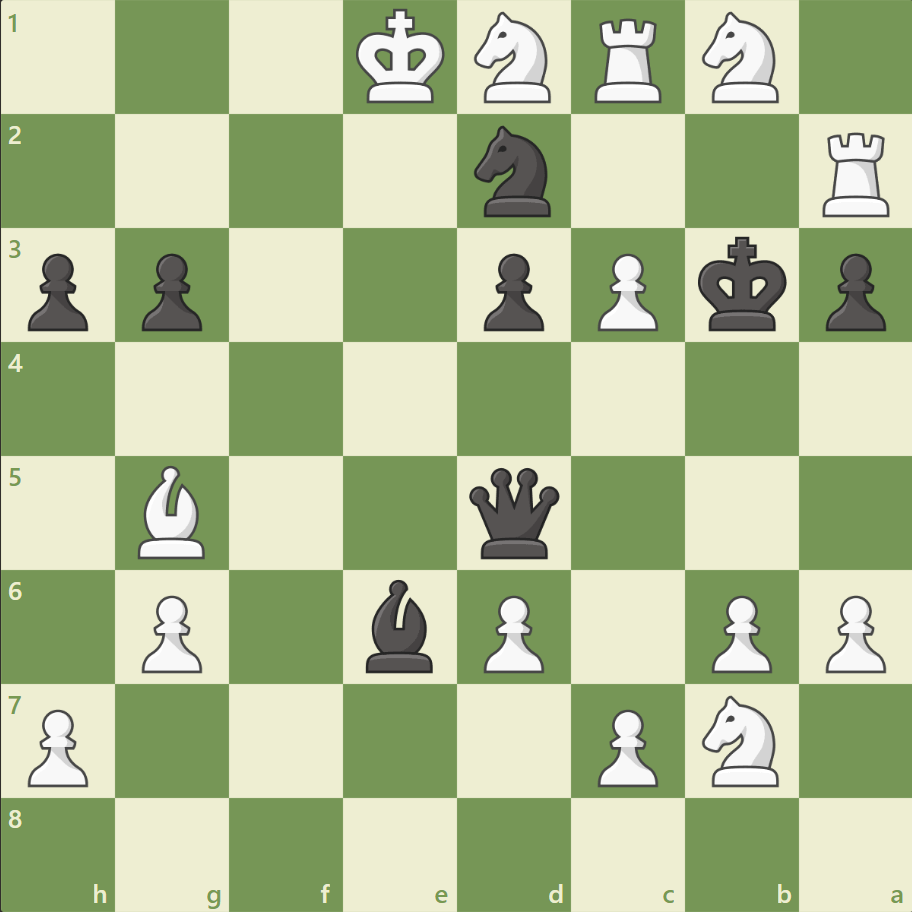B: (131, 460, 215, 563)
K: (351, 4, 451, 112)
N: (692, 688, 789, 791), (692, 7, 789, 110), (465, 7, 562, 110)
P: (20, 700, 95, 791), (701, 586, 776, 677), (474, 586, 549, 677), (133, 586, 208, 677), (588, 700, 662, 791), (815, 586, 889, 677), (588, 246, 662, 337)
R: (814, 125, 897, 222), (587, 12, 670, 109)
b: (358, 574, 442, 676)
k: (692, 231, 792, 339)
n: (465, 121, 562, 223)
p: (474, 246, 549, 337), (133, 246, 208, 337), (20, 246, 95, 337), (815, 246, 889, 337)
q: (464, 463, 563, 562)
